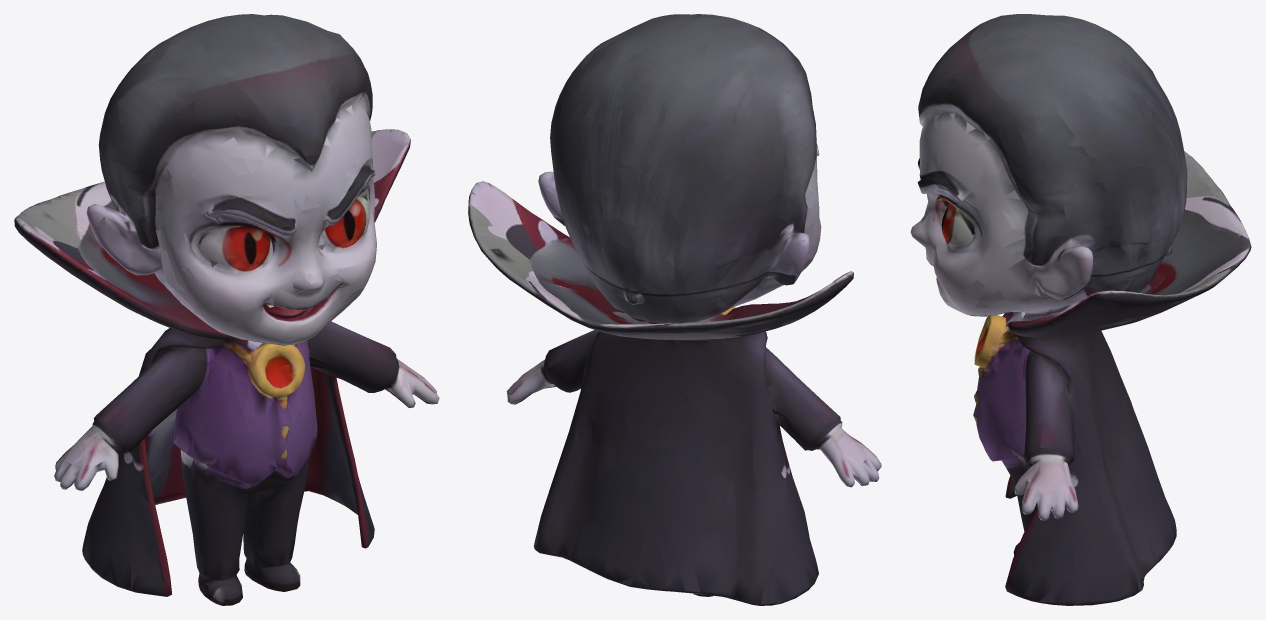
The model's file is vampire.glb.
3 views of the same model, side by side, from view 1: azimuth 30°, elevation 25°; view 2: azimuth 150°, elevation 25°; view 3: azimuth 270°, elevation 25° (orthographic). The views are drawn at different scales.
Parts seen in each view (by area): view 1: tripo_node_3fcc575e-8707-4933-b8e4-e7597c3f4c04; view 2: tripo_node_3fcc575e-8707-4933-b8e4-e7597c3f4c04; view 3: tripo_node_3fcc575e-8707-4933-b8e4-e7597c3f4c04.
Part boxes in pixels (<box>): tripo_node_3fcc575e-8707-4933-b8e4-e7597c3f4c04: <box>14,14,439,605</box>; tripo_node_3fcc575e-8707-4933-b8e4-e7597c3f4c04: <box>468,14,881,605</box>; tripo_node_3fcc575e-8707-4933-b8e4-e7597c3f4c04: <box>910,14,1251,605</box>.
Size of the model in its own units: 0.7201 by 1 by 0.5686.
1 material, 1 textured.
